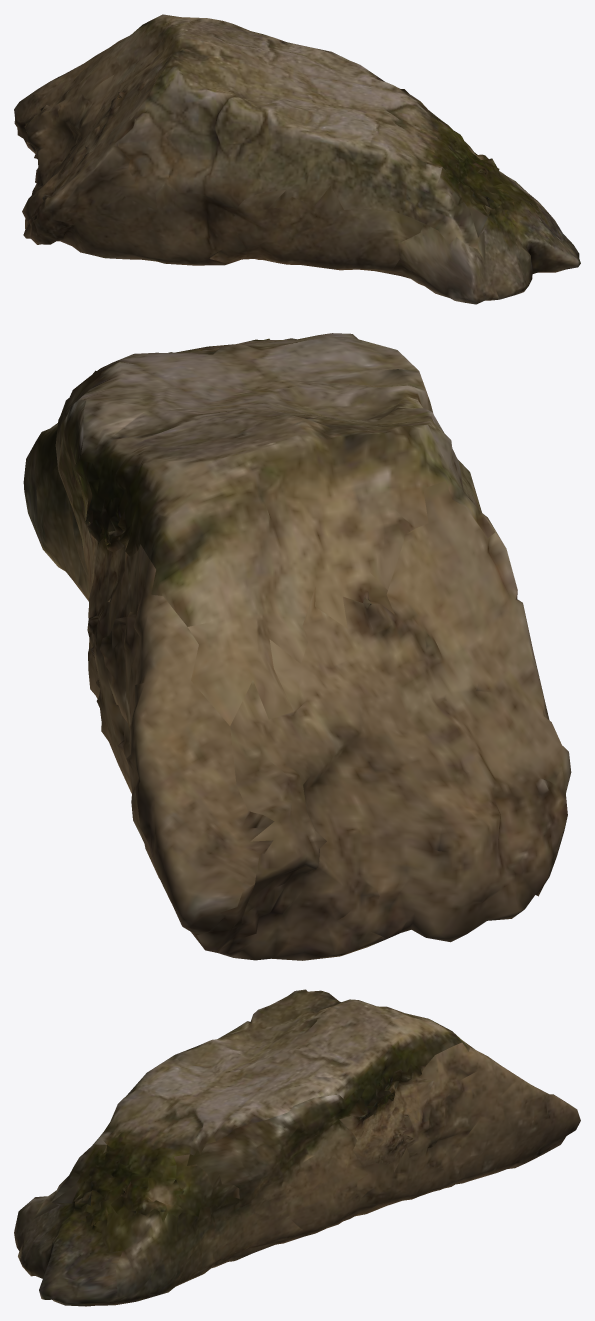
The model's file is Scan_MossRock_B.fbx.
3 renders of one model, top to bottom at view 1: azimuth 30°, elevation 25°; view 2: azimuth 150°, elevation 25°; view 3: azimuth 270°, elevation 25°, orthographic. The views are drawn at different scales.
Parts seen in each view (by area): view 1: Scan_MossRock_B_LOD0; view 2: Scan_MossRock_B_LOD0; view 3: Scan_MossRock_B_LOD0.
Boxes of the visible parts, x1,y1,x2,y2 form: Scan_MossRock_B_LOD0: (14, 14, 580, 304); Scan_MossRock_B_LOD0: (23, 333, 571, 960); Scan_MossRock_B_LOD0: (14, 989, 580, 1306).
Size of what is drawn, in the model's own units: 2.65 by 1.27 by 3.26.
